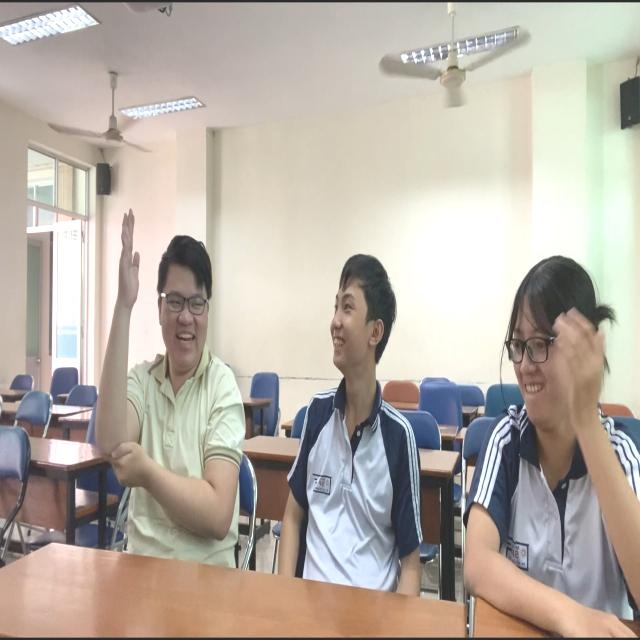raise_hand: (459, 247, 640, 640), (83, 212, 254, 557)
